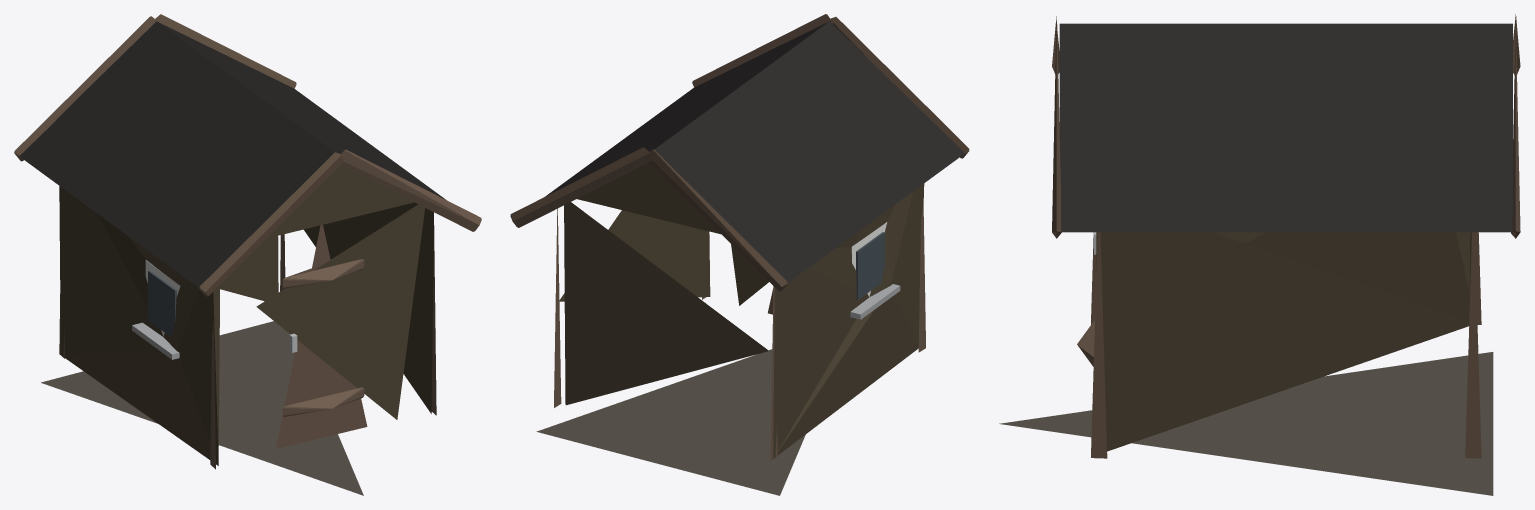
Rendered from garden-shed-lod1.glb.
3 renders of one model, left to right at view 1: azimuth 30°, elevation 25°; view 2: azimuth 150°, elevation 25°; view 3: azimuth 270°, elevation 25°, orthographic. The views are drawn at different scales.
Visible parts, largest first — view 1: garden-shed.001; view 2: garden-shed.001; view 3: garden-shed.001.
Boxes of the visible parts, x1=… form: garden-shed.001: x1=14, y1=14, x2=481, y2=495; garden-shed.001: x1=510, y1=14, x2=969, y2=495; garden-shed.001: x1=999, y1=14, x2=1520, y2=495.
Bounding box in the file's own units: 2.76 × 3.09 × 3.57.
